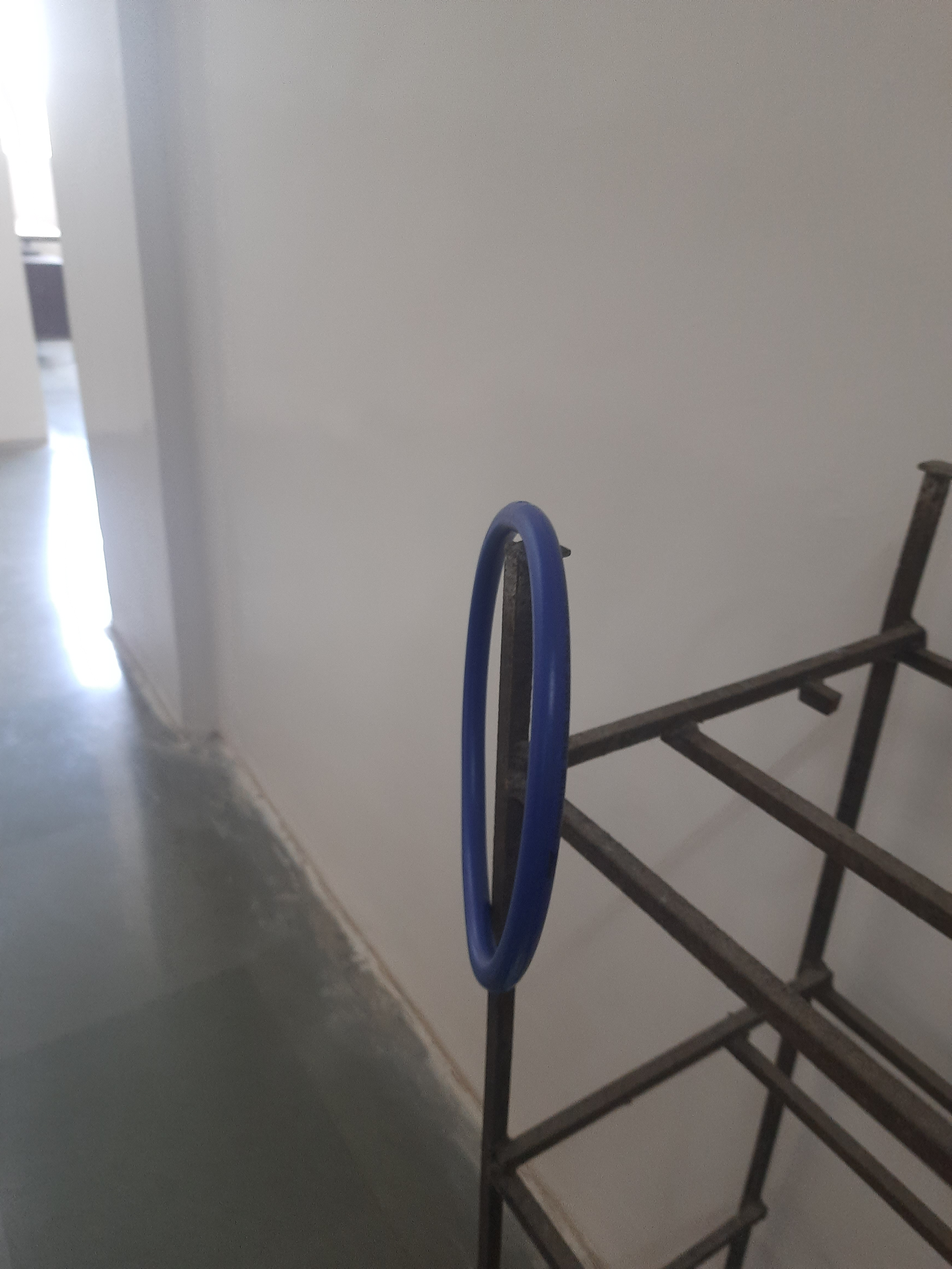Blue ring: (457, 500, 562, 995)
